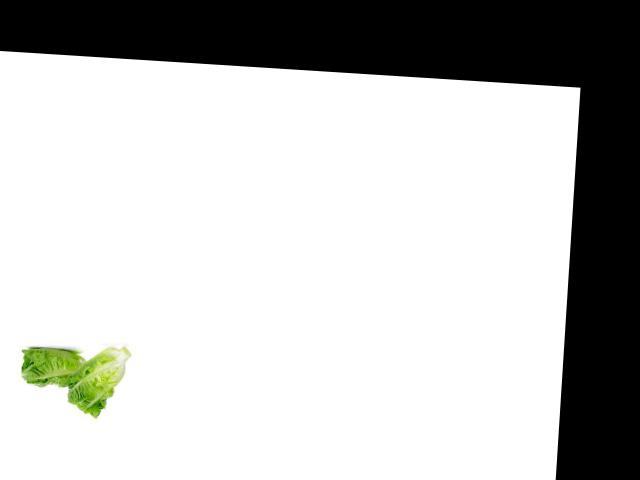lettuce: (58, 337, 133, 417)
